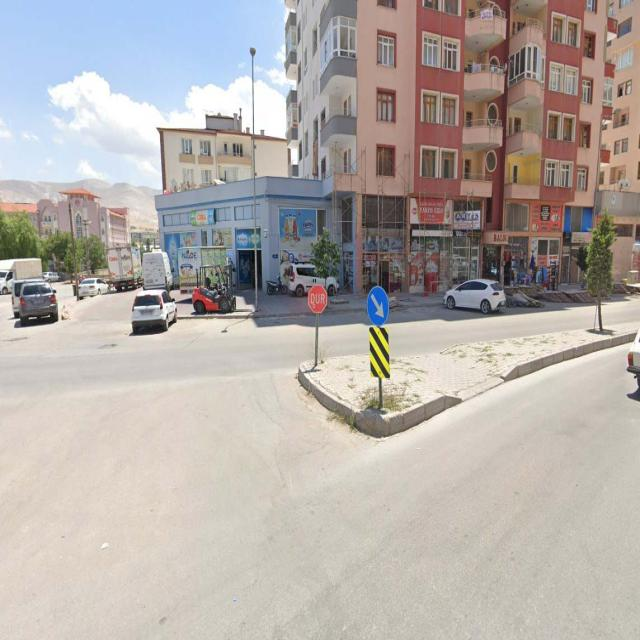dur: (308, 284, 328, 314)
